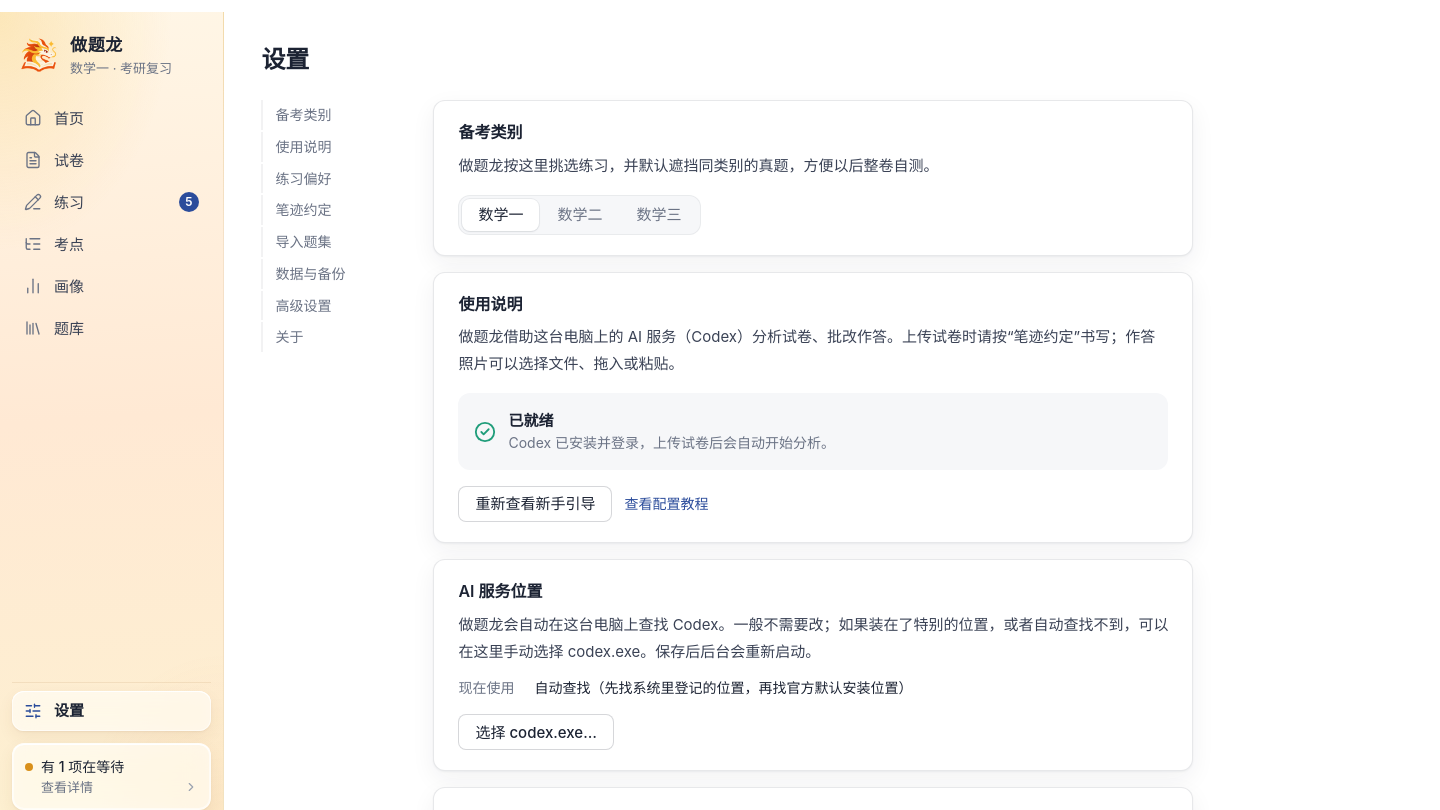
Test: checks a picked codex.exe before saving and restarts with the pick id
Expected: the text "自动查找" is shown, [458,614,1168,660]
Click the button "选择 codex.exe…" at coordinates (536, 732), box [458,714,614,750]
(page scrolled)
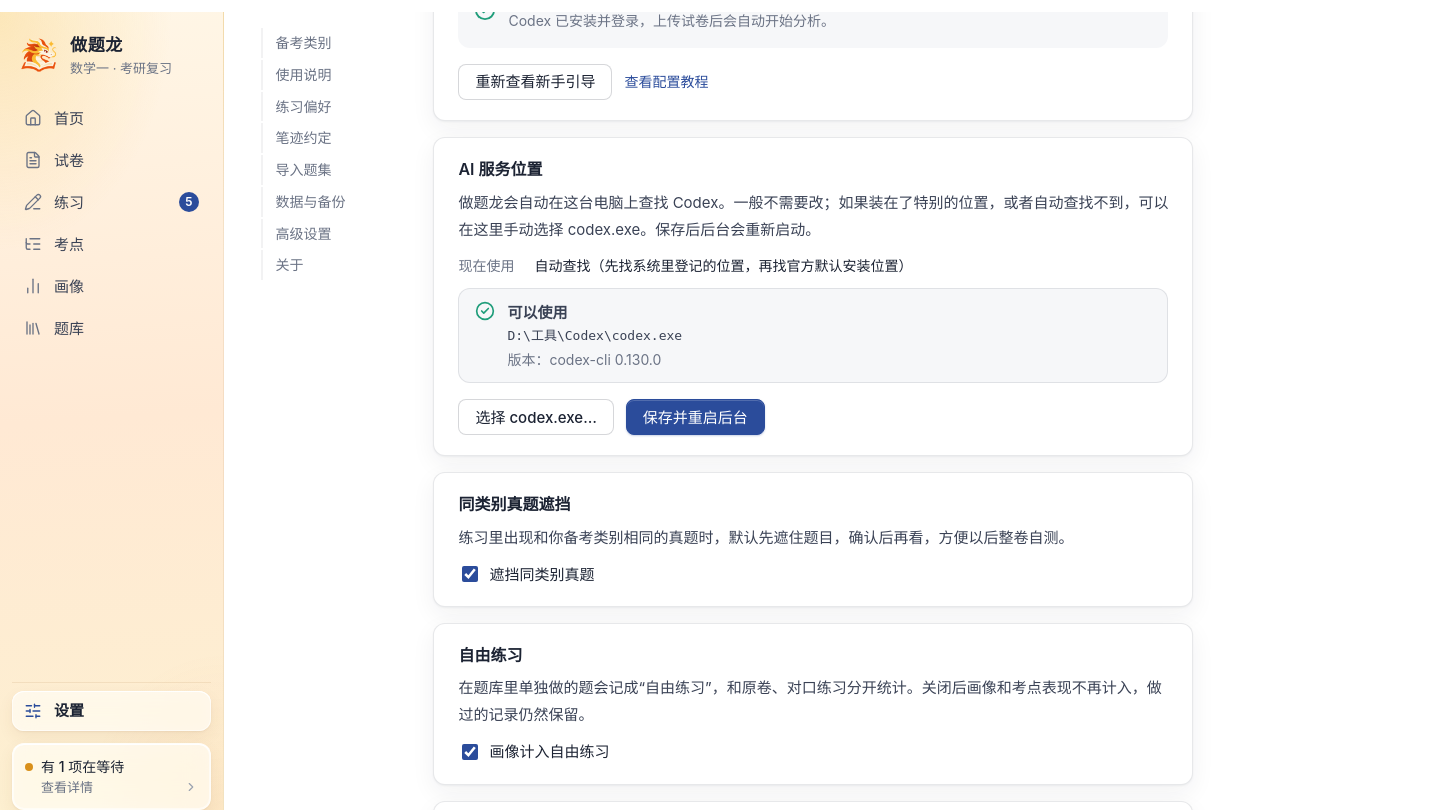
Expected: the message named "选择结果" shows "可以使用", [507,303,567,322]
Expected: the message named "选择结果" shows "codex-cli 0.130.0", [507,351,661,368]
Click the button "保存并重启后台" at coordinates (695, 417), box [626,399,765,435]
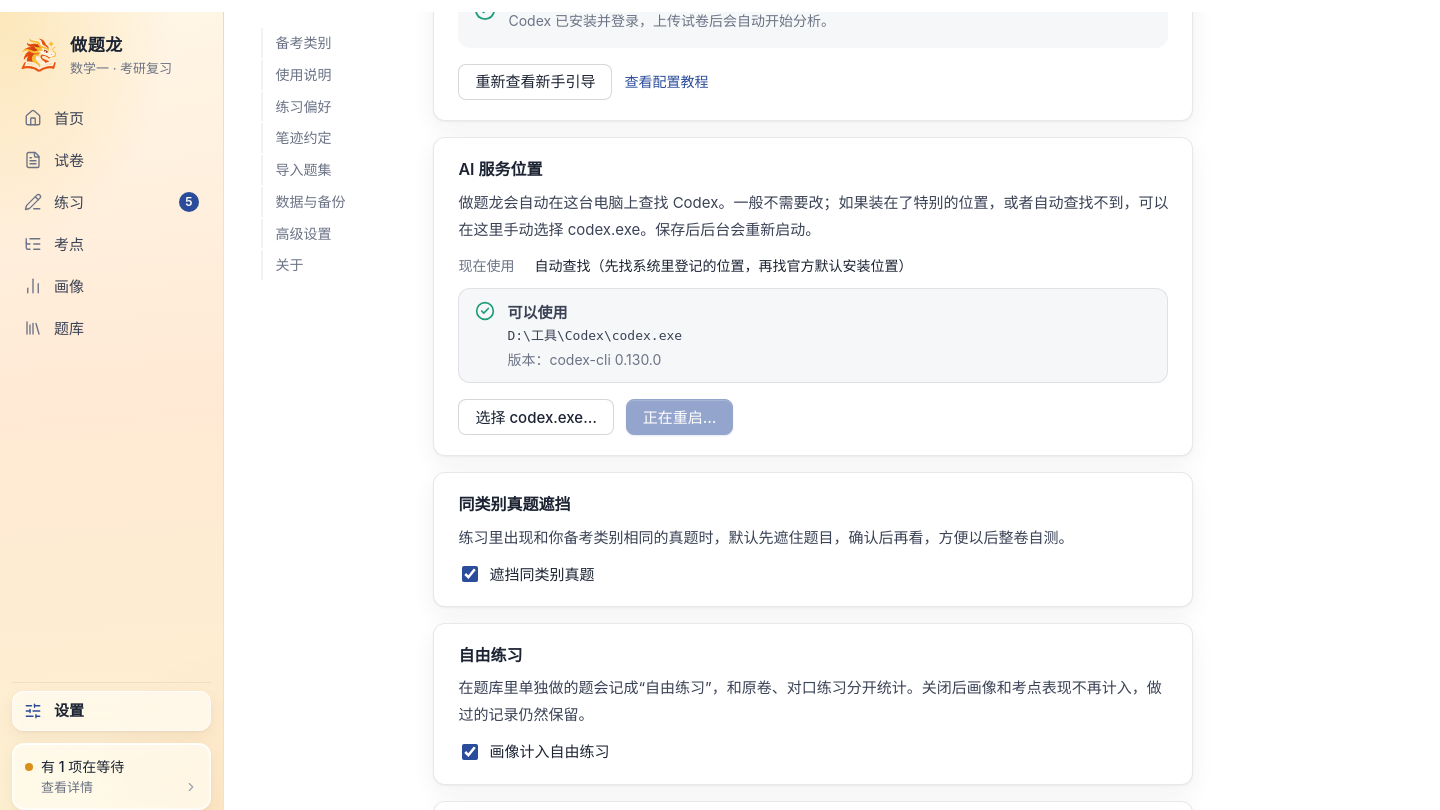
Expected: the button "正在重启…" is disabled, [626,399,734,435]
